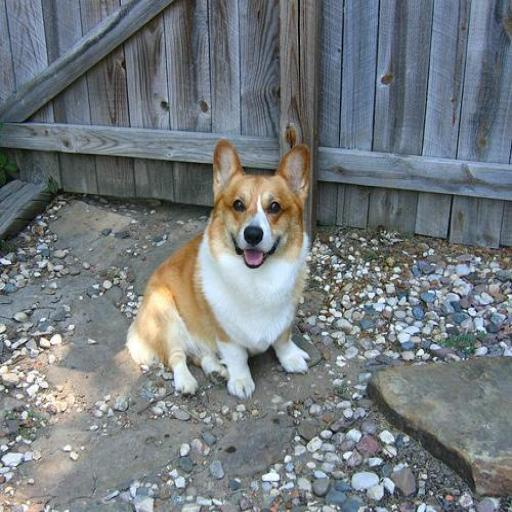dog_face: (216, 141, 309, 263)
